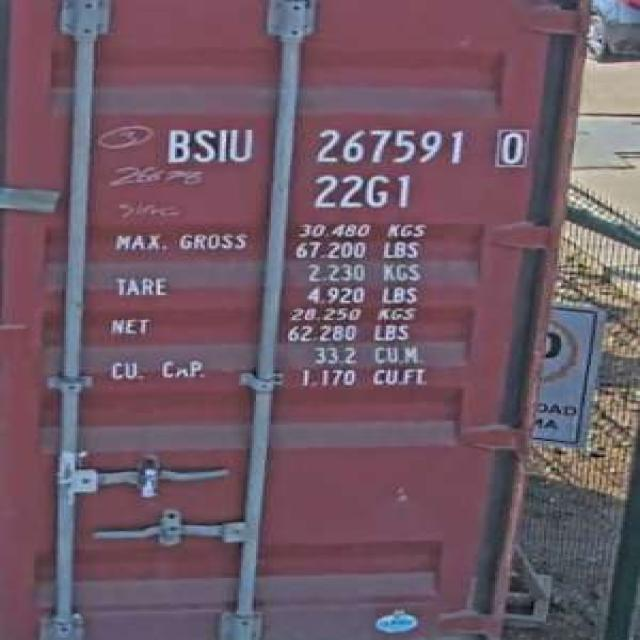dv: (489, 124, 531, 171)
owner: (160, 122, 256, 166)
serial: (307, 124, 467, 168)
size: (305, 171, 416, 214)
